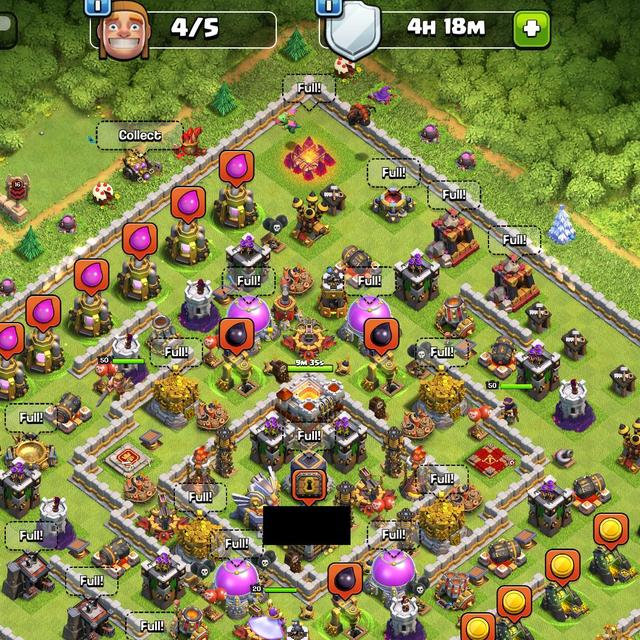ElixirNegro: (219, 318, 255, 356), (329, 563, 362, 602), (365, 318, 398, 356)
FullCoin: (497, 584, 532, 623), (547, 548, 581, 586), (596, 513, 628, 551), (462, 612, 498, 640)
FullElixir: (219, 151, 256, 189), (74, 258, 110, 296), (26, 294, 60, 332), (173, 186, 205, 224), (125, 222, 156, 259), (1, 322, 25, 362)
